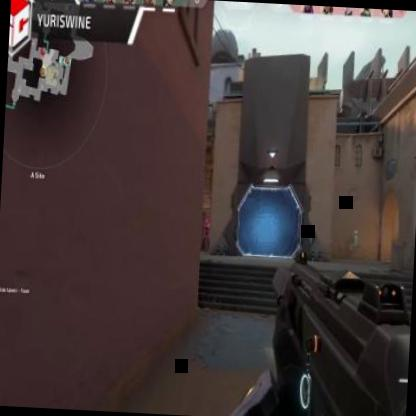enemy: (200, 216, 212, 253)
enemy_head: (205, 218, 209, 224)
